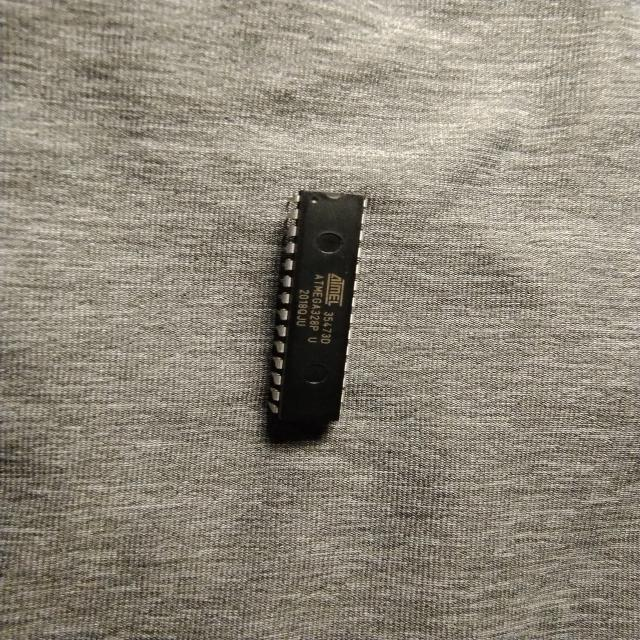atmega: (263, 188, 371, 432)
